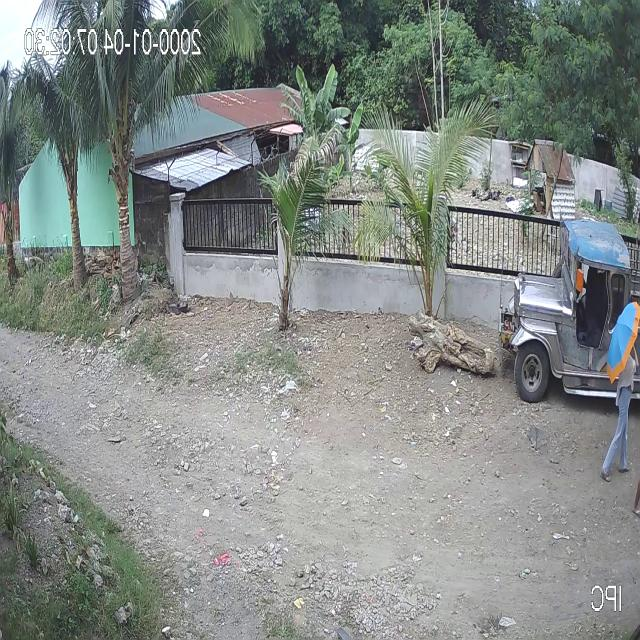walking: (599, 298, 639, 485), (630, 468, 640, 526)
